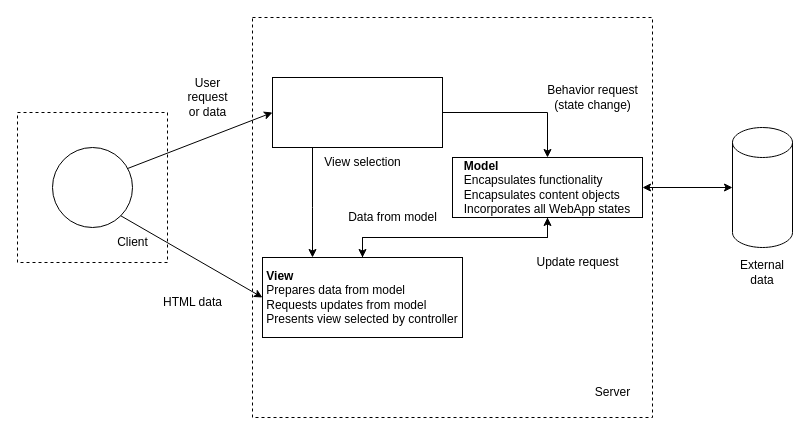
The diagram is 810 pixels wide and 435 high, and some of its shapes have lost their labels. The centre of each missing label's shape, as x and y in pixels:
"Browser" belongs at point 92,187.
"Controller Manages user requests Selects model behavior Selects view response" belongs at point 357,112.
